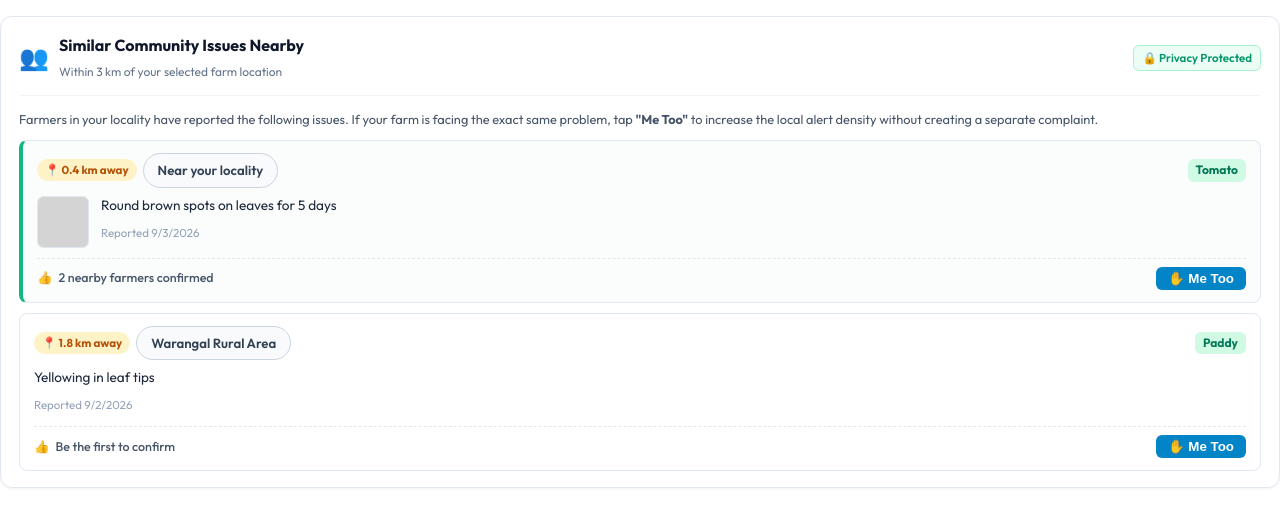
Test: NearbyCommunityIssues Component (3 KM Farmer-Facing Feed) › submits community confirmation (Me Too) without creating a new incident
Click the button with test id "me-too-btn-inc-near-1" at (1201, 278), box [1156,267,1246,290]
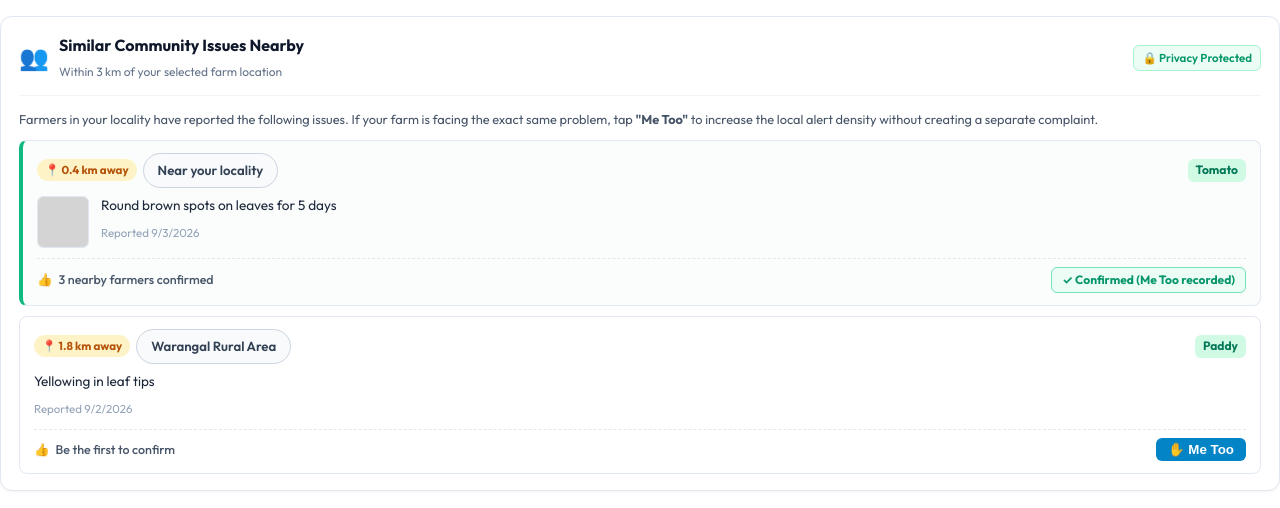
Expected: the text "✓ Confirmed (Me Too recorded)" is shown, [1051,267,1246,293]
